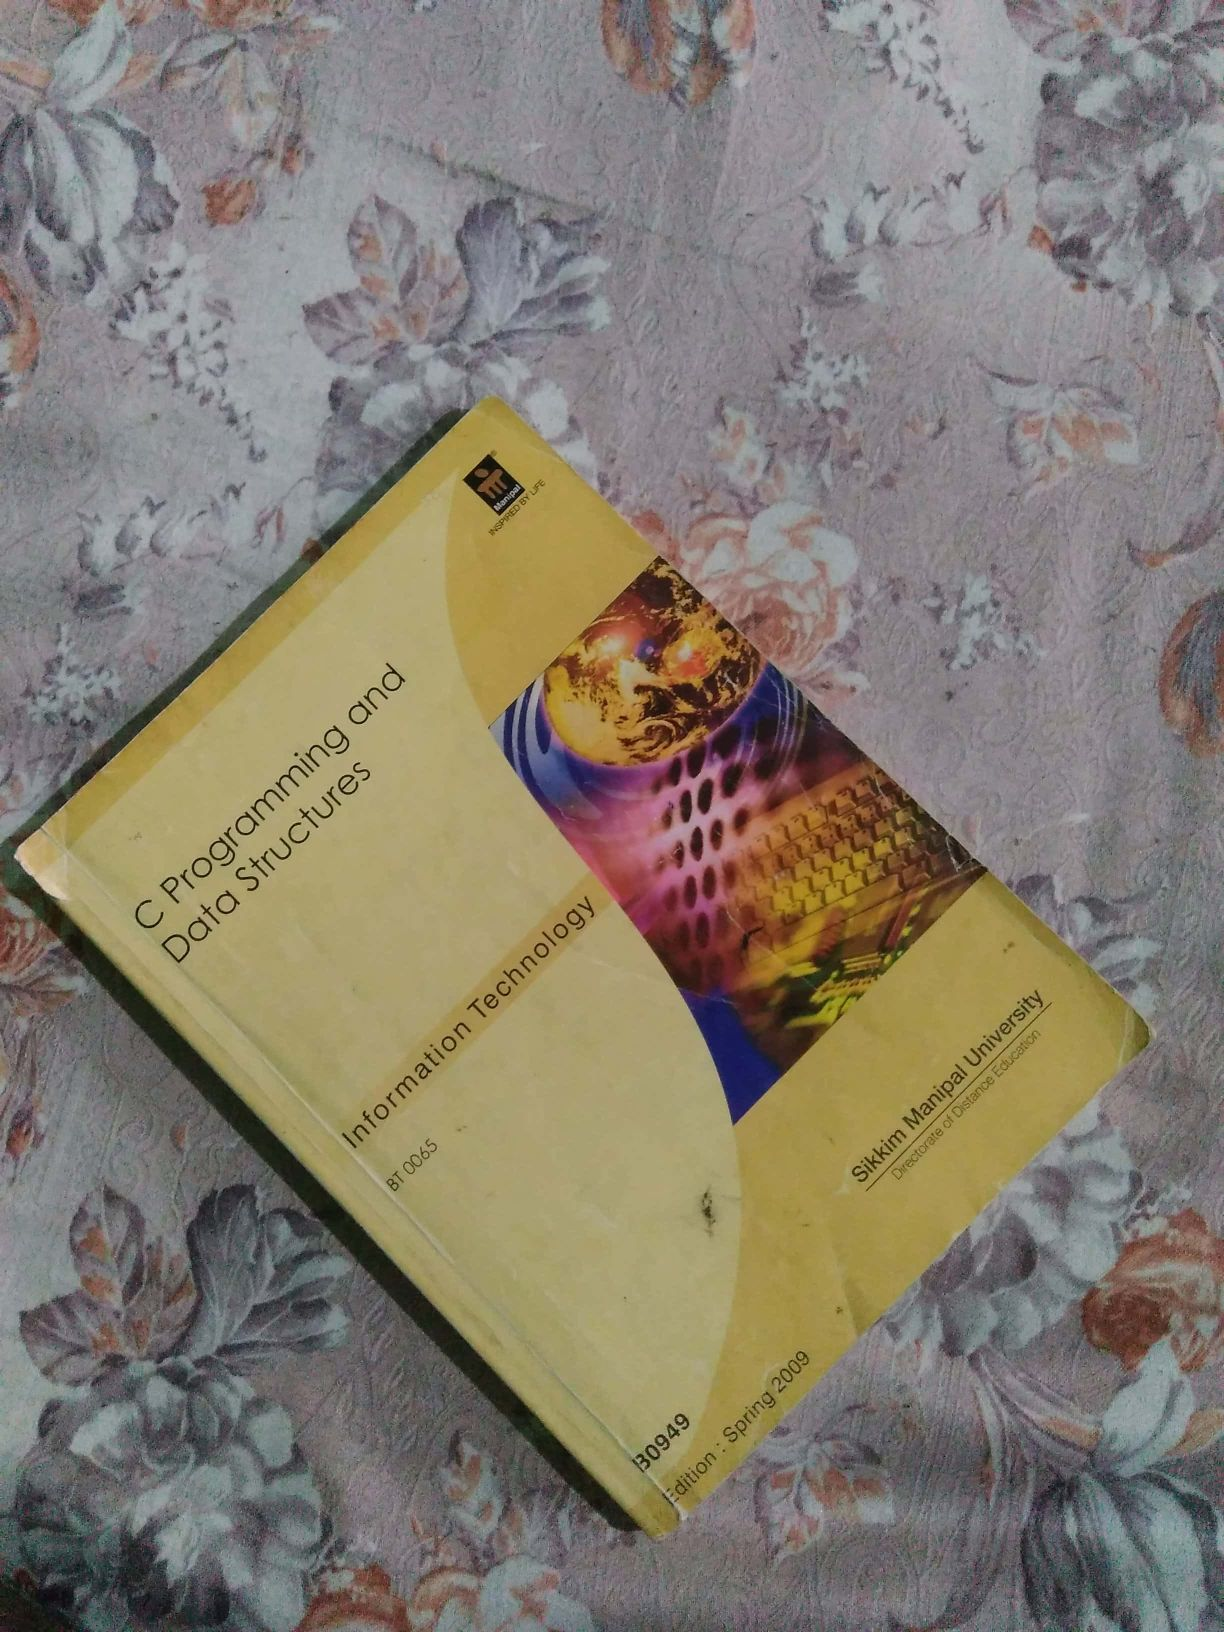clang: (37, 445, 1139, 1557)
